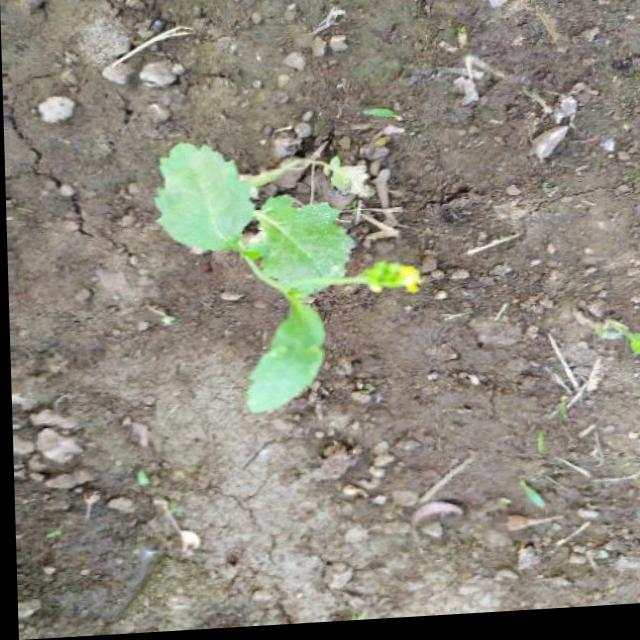weed: (141, 123, 428, 430)
